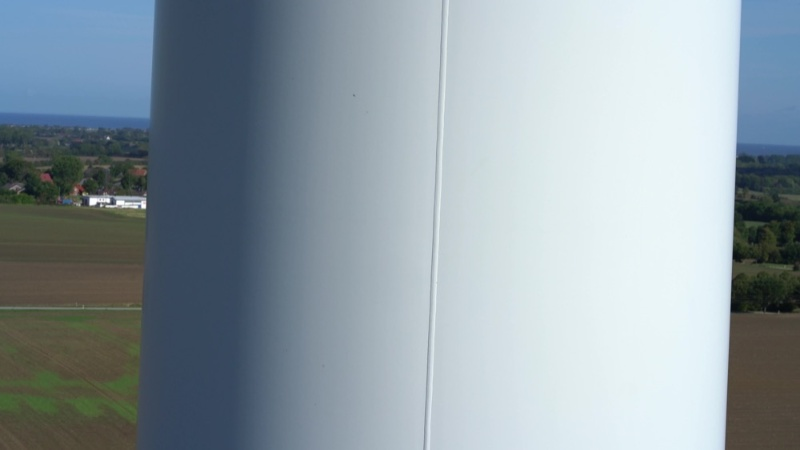weldseam: (422, 2, 456, 450)
